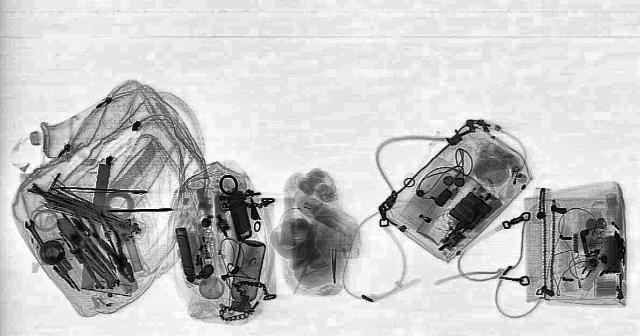Pliers: (78, 212, 146, 284)
Wrench: (18, 218, 72, 276)
